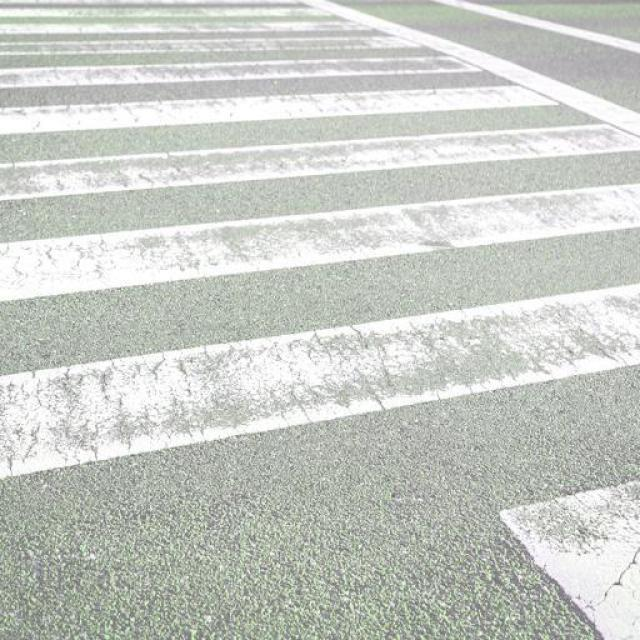crosswalk: (1, 0, 639, 483)
